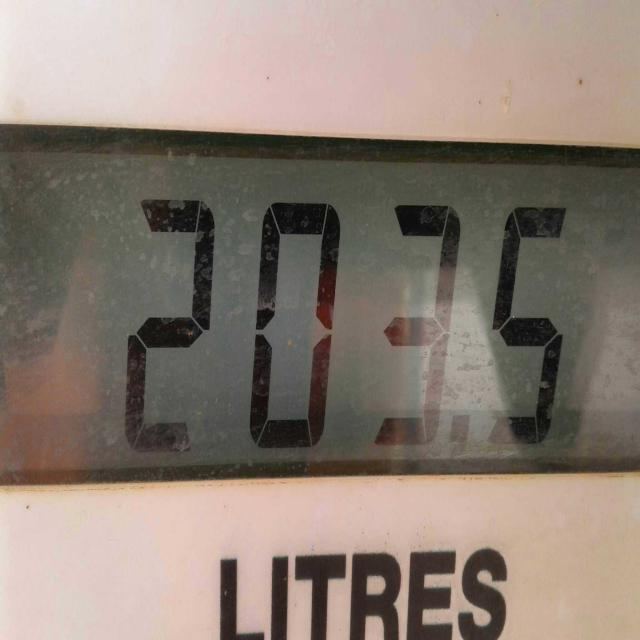.: (438, 396, 472, 465)
0: (241, 187, 362, 454)
2: (122, 177, 235, 471)
3: (359, 180, 469, 472)
5: (478, 190, 593, 478)
